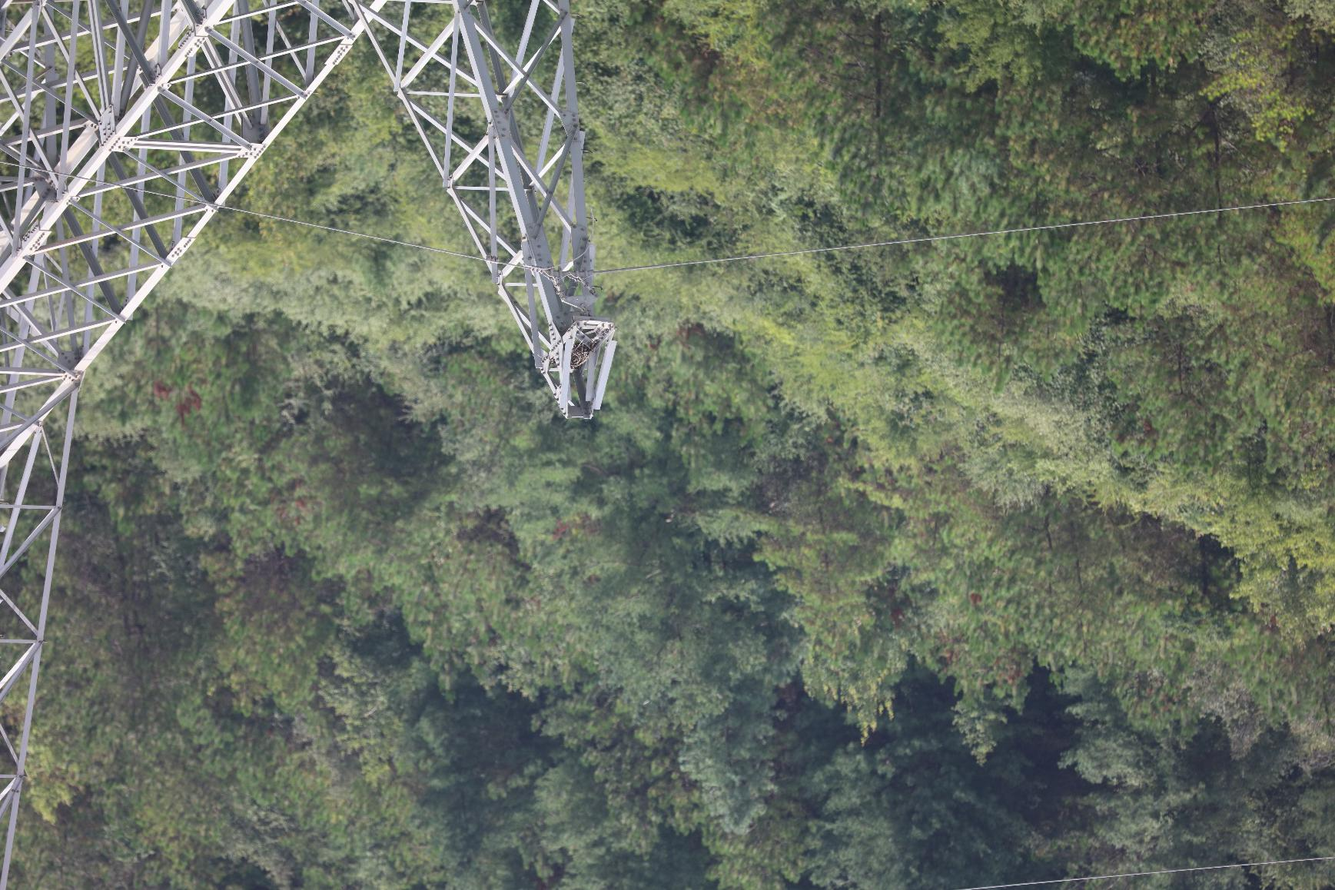nest: (569, 341, 593, 369)
